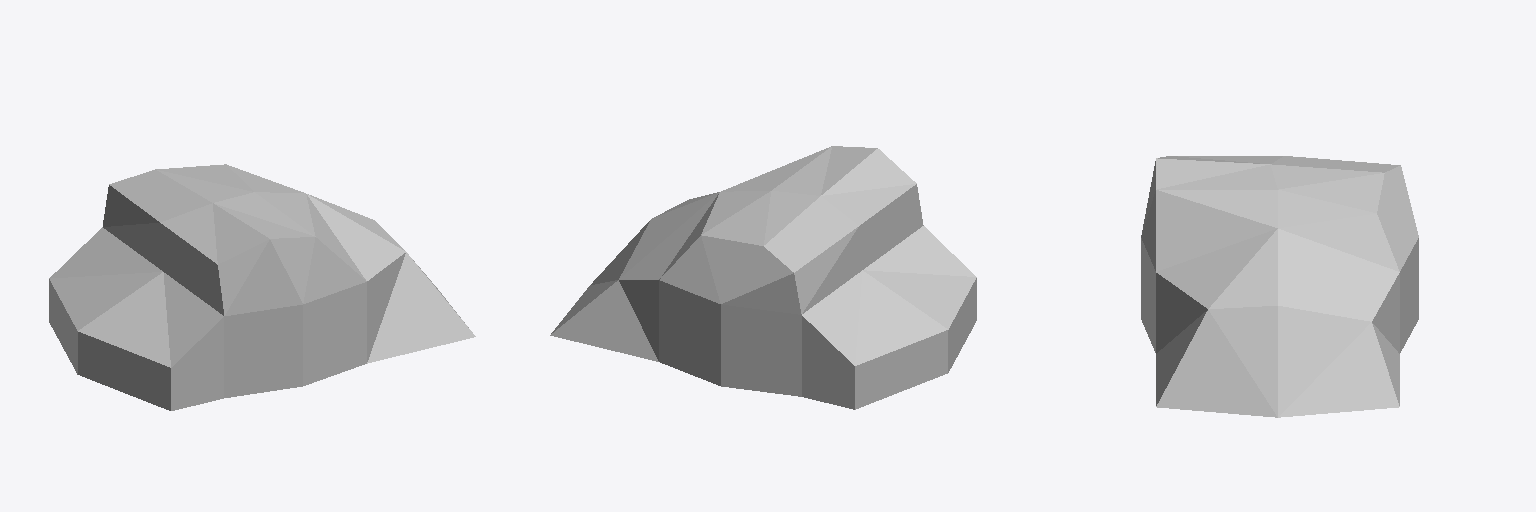
The model's file is rock1.obj.
3 renders of one model, left to right at view 1: azimuth 30°, elevation 25°; view 2: azimuth 150°, elevation 25°; view 3: azimuth 270°, elevation 25°, orthographic.
Visible parts, largest first — view 1: ground.005; view 2: ground.005; view 3: ground.005.
Part boxes in pixels (bbox=[...]): ground.005: bbox=[49, 164, 475, 410]; ground.005: bbox=[550, 146, 976, 409]; ground.005: bbox=[1141, 156, 1418, 417].
Bounding box in the file's own units: 3.26 × 1.29 × 2.19.